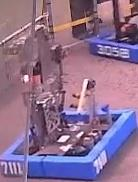blue_number: (92, 146, 108, 177), (0, 160, 27, 177)
